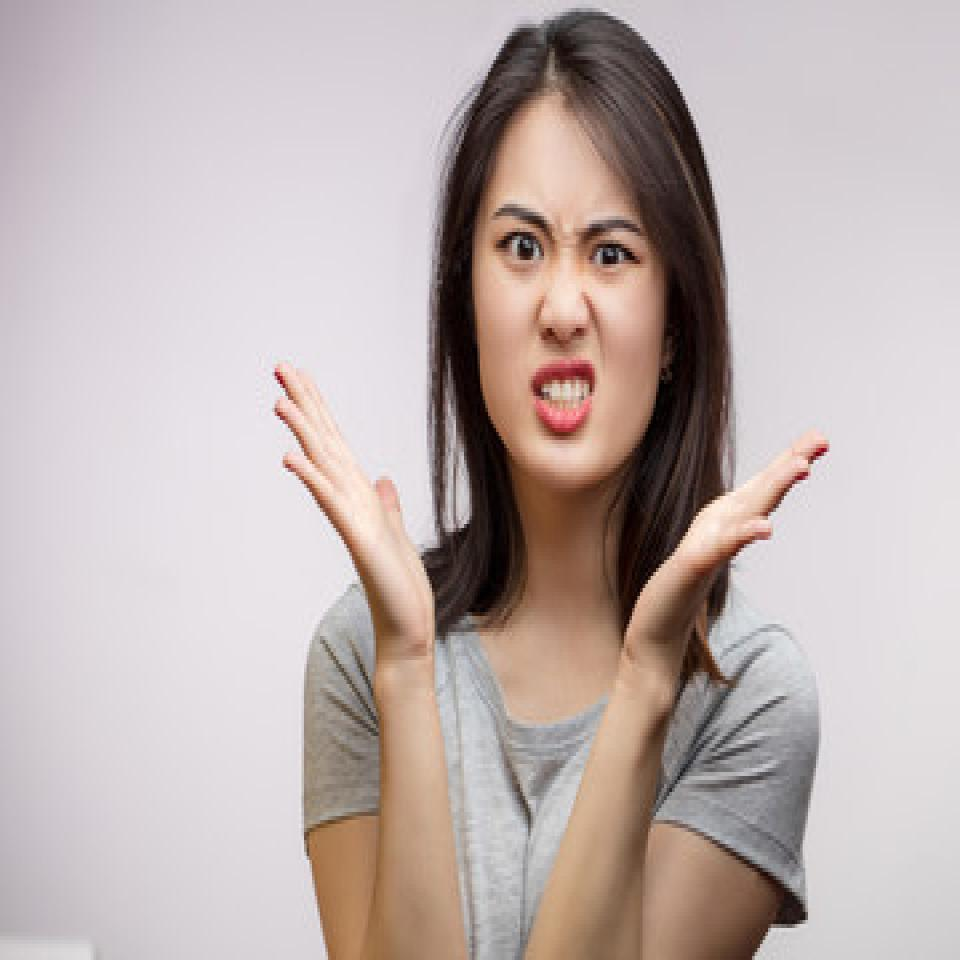Anger: (473, 119, 667, 484)
